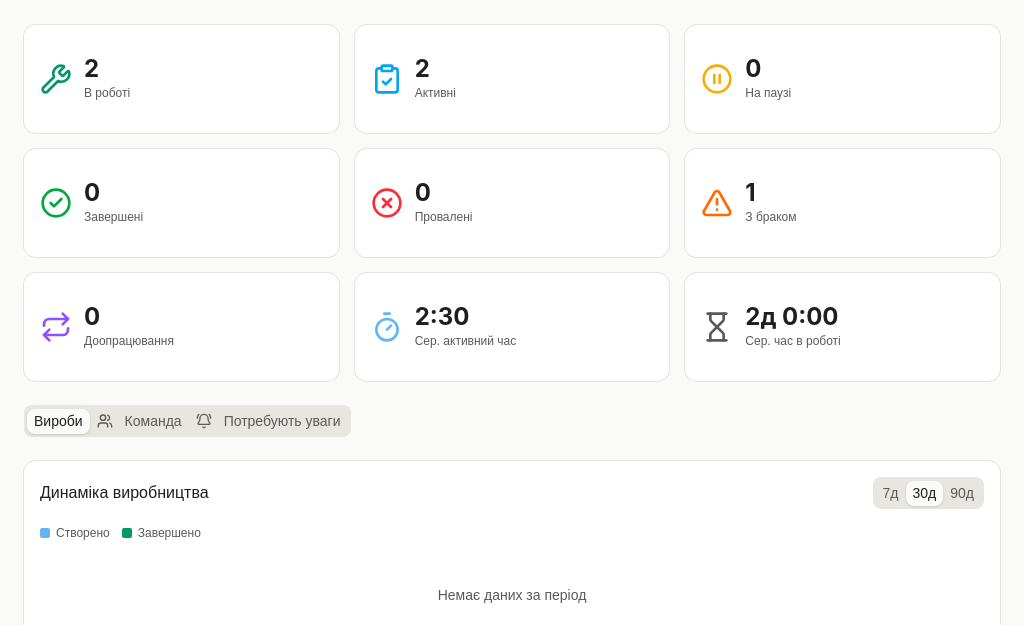
Test: ProductionPage › renders the team table and drills down to items
What coordinates should you click on to do the following:
click the tab "Команда"
I would click on:
 (139, 421)
Its box is [90,408,189,434].
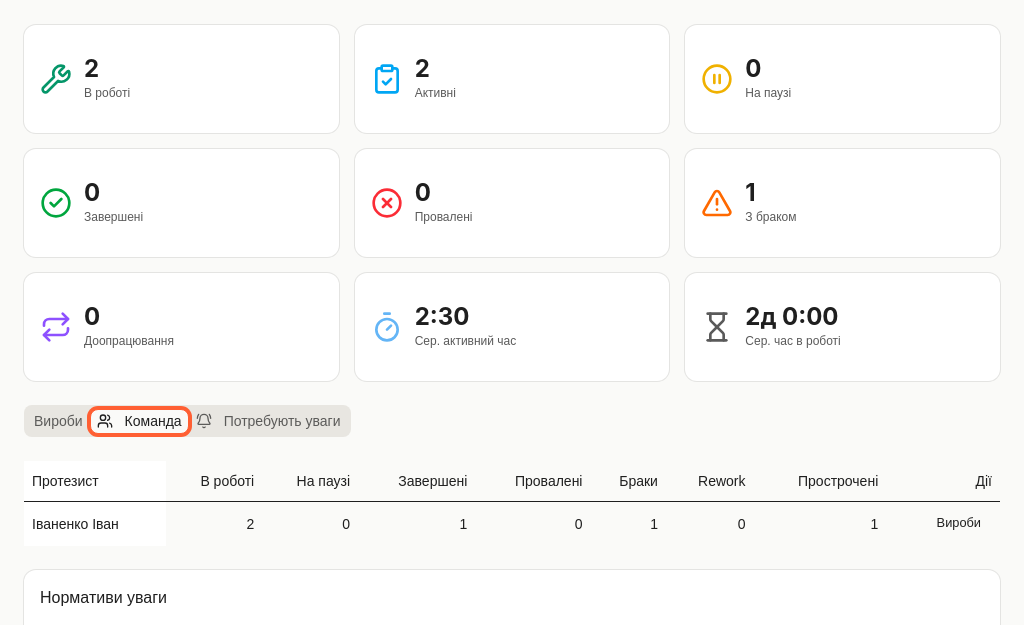
expect the text "Іваненко Іван" is shown: met, box [24,501,166,546]
expect the column heading "Прострочені" is shown: met, box [754,461,886,501]
What coordinates should you click on to do the following:
click the button "Вироби"
I would click on:
 (959, 524)
Its box is [926,510,992,538].
(page scrolled)
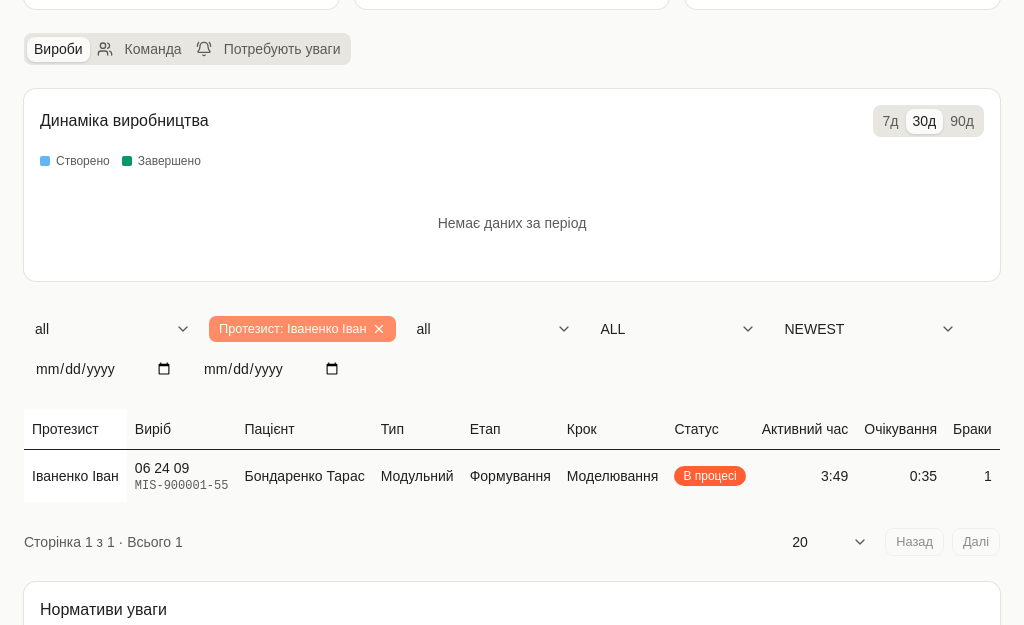
expect the button "Протезист: Іваненко Іван" is shown: met, box [208,315,398,343]
